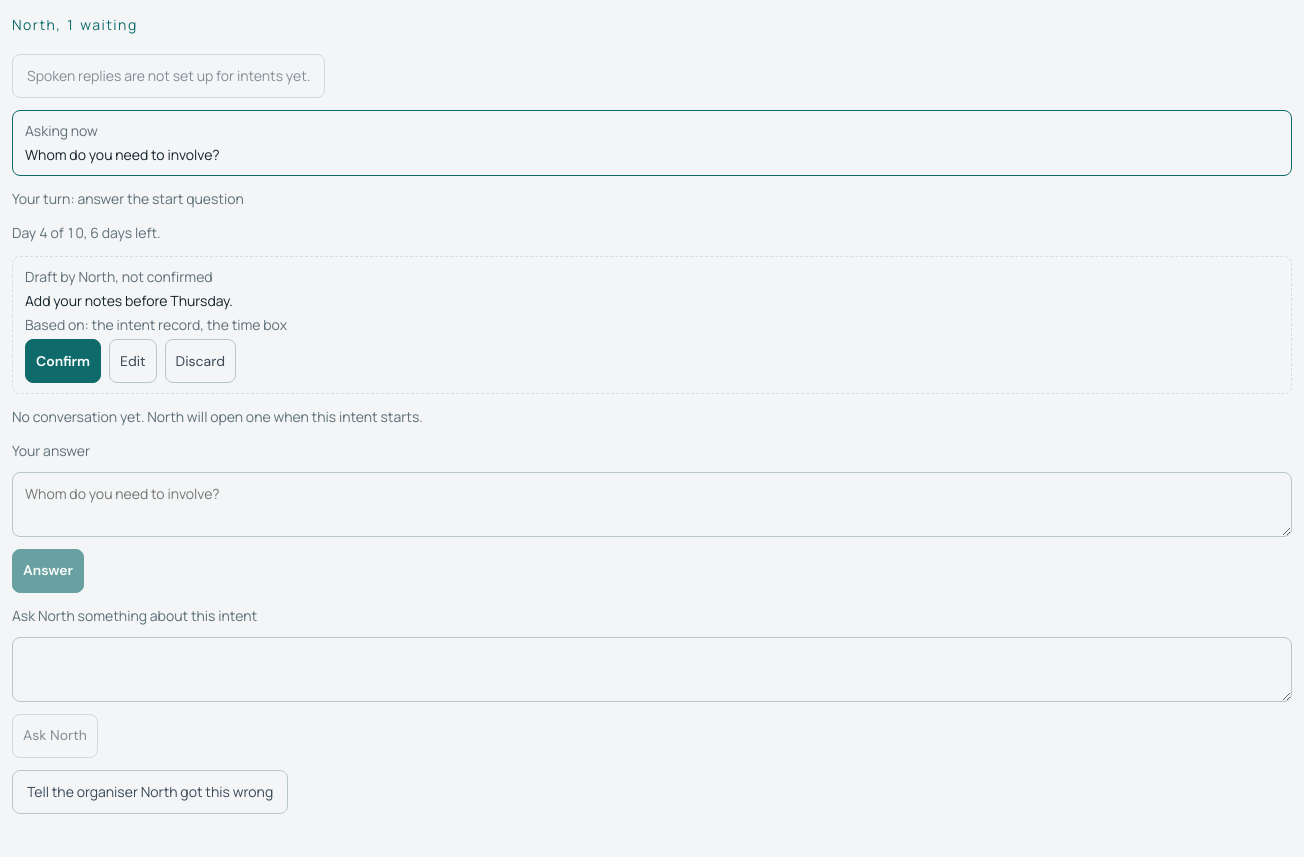
North panel › a failed answer shows North's plain line
Type "Hello" into the text box labelled "Your answer" at (652, 505), box [12, 472, 1292, 537]
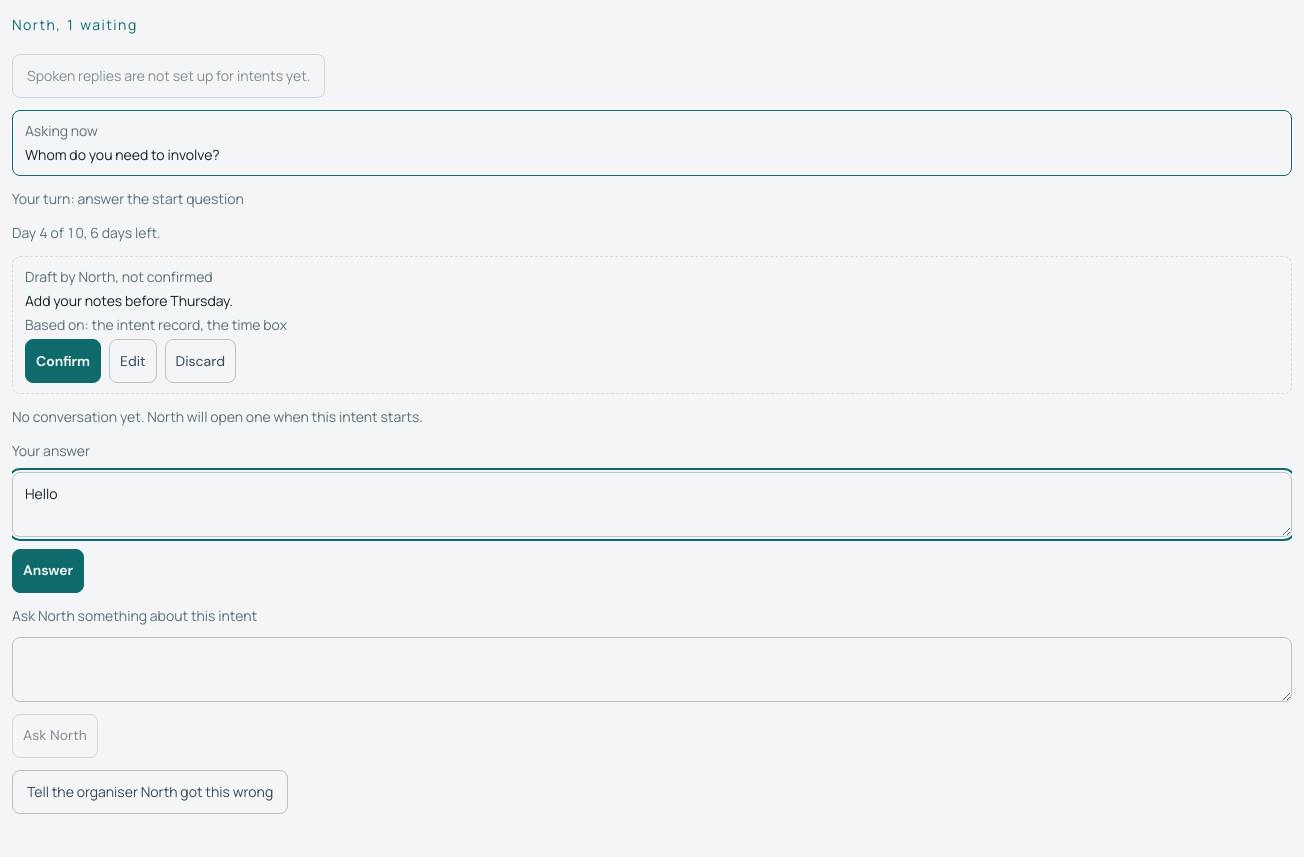
Click the button "Answer" at (48, 571), box [12, 549, 84, 593]
(page scrolled)
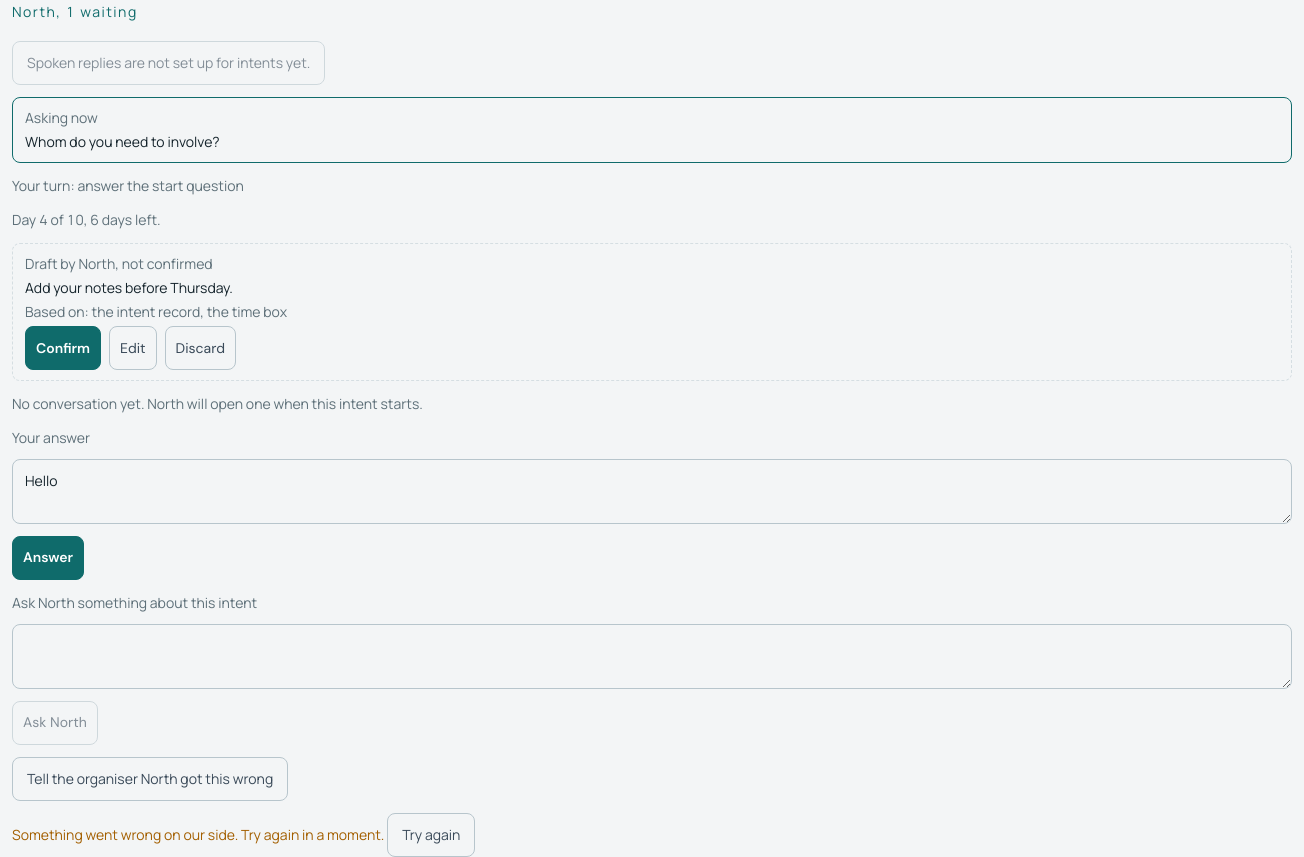
Now the message "Something went wrong on our side. Try again in a moment. Try again" is shown, box [12, 813, 475, 856]
